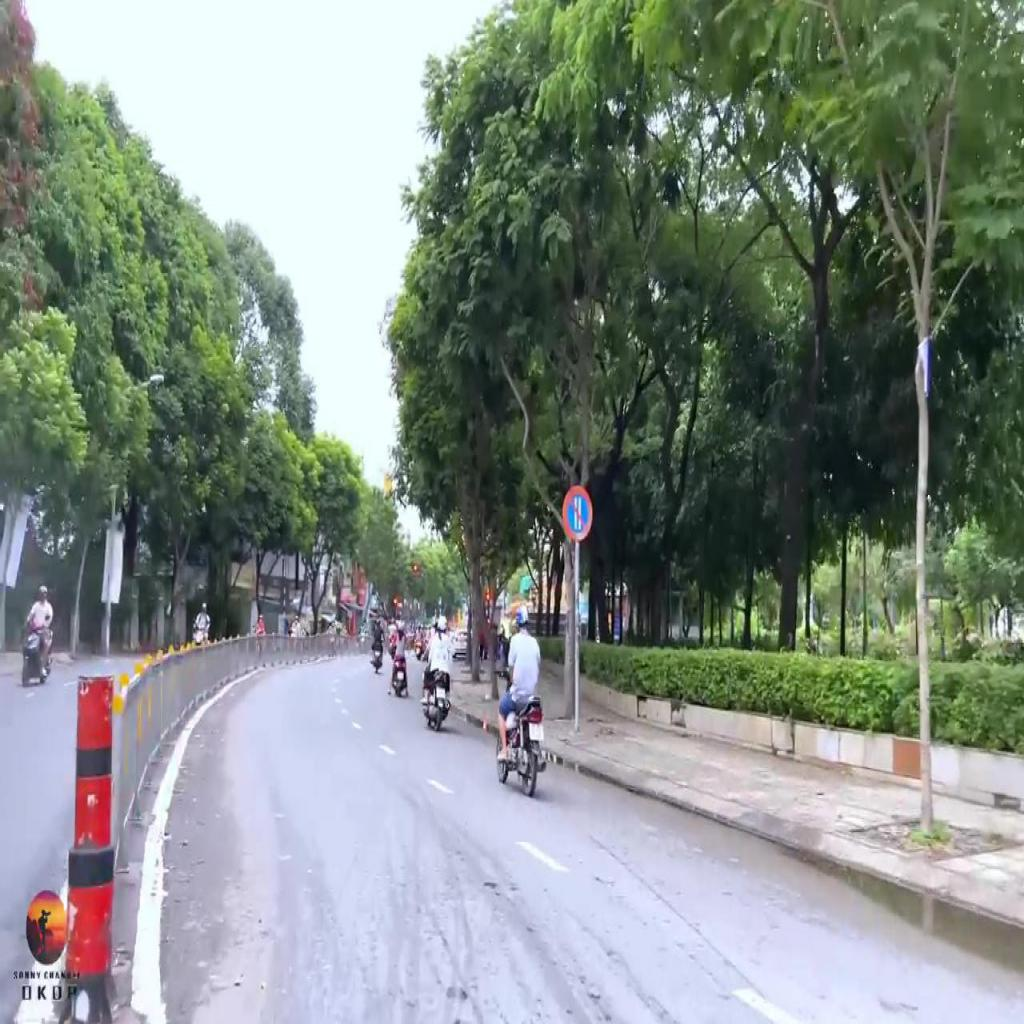cam_do_xe: (562, 484, 595, 543)
